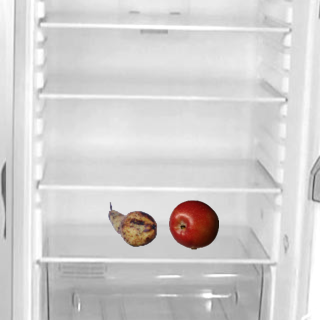Apple Braeburn: (168, 199, 218, 249)
Pear Abate: (107, 199, 157, 249)
